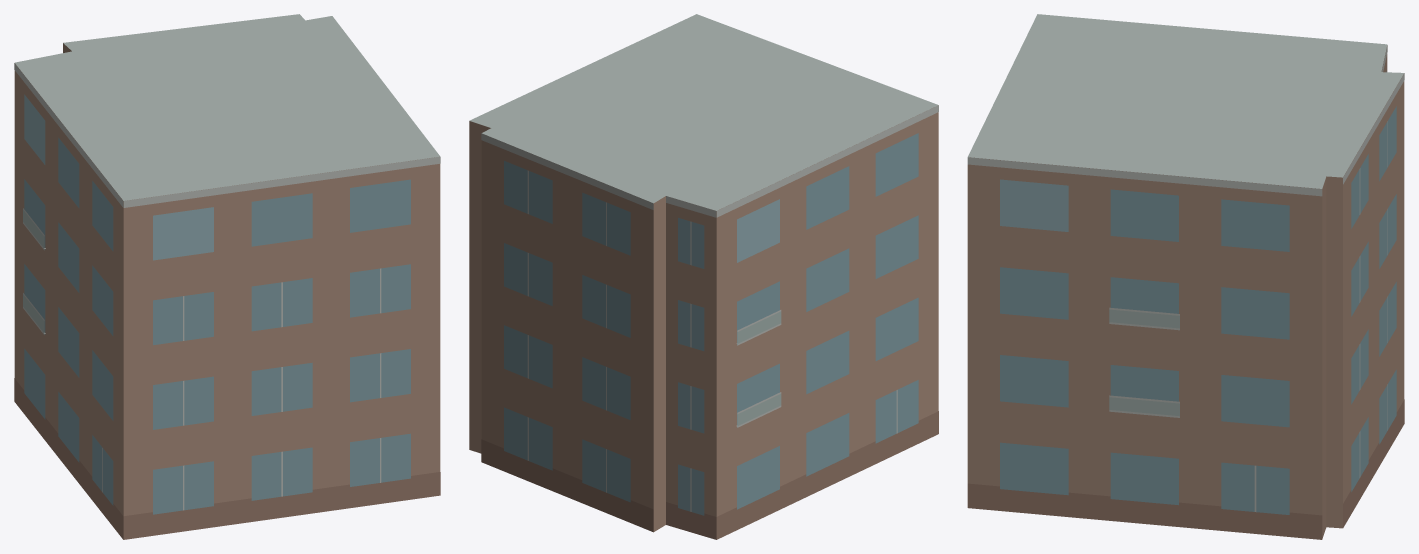
Rendered from survey-upis-32681786.glb.
3 renders of one model, left to right at view 1: azimuth 30°, elevation 25°; view 2: azimuth 150°, elevation 25°; view 3: azimuth 270°, elevation 25°, orthographic. The views are drawn at different scales.
Visible parts, largest first — view 1: survey-upis-32681786.tmp; view 2: survey-upis-32681786.tmp; view 3: survey-upis-32681786.tmp.
Part boxes in pixels (x1,y1,x2,y2): survey-upis-32681786.tmp: (14,14,440,539); survey-upis-32681786.tmp: (469,14,938,539); survey-upis-32681786.tmp: (967,14,1404,539).
Size of the model in its own units: 12.42 by 11.6 by 13.1.
